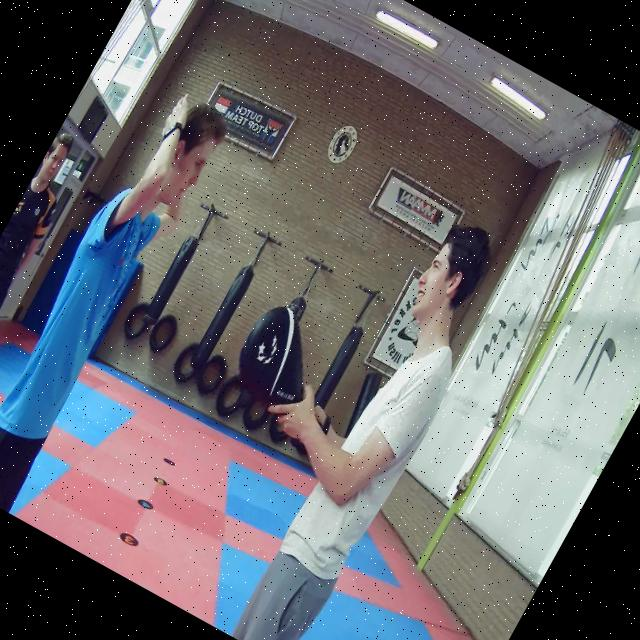paddle: (240, 306, 307, 408)
